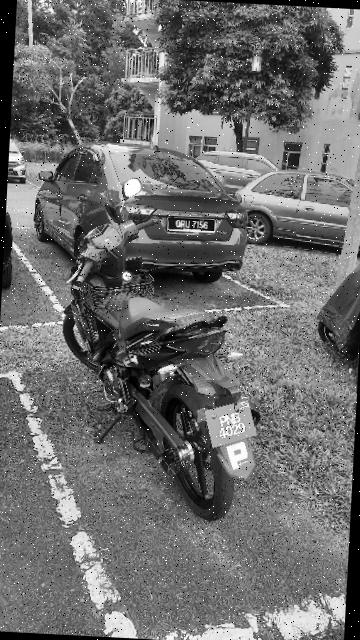License_Plate: (199, 394, 264, 453)
car: (33, 119, 257, 291), (240, 159, 360, 259)
motorcycle: (47, 173, 297, 529)
